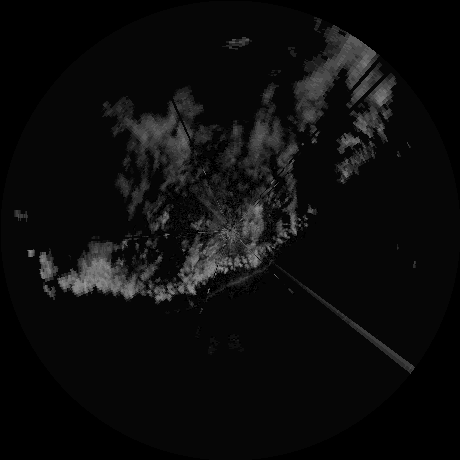frontgust: (206, 258, 275, 298)
